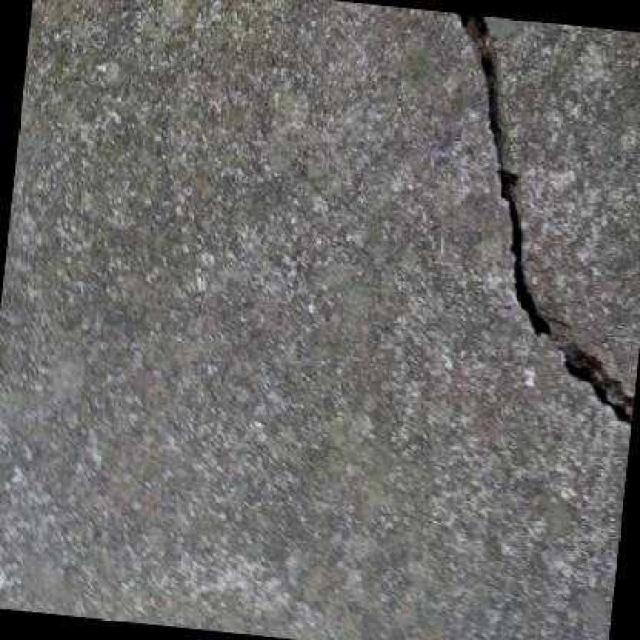D00: (455, 12, 634, 428)
